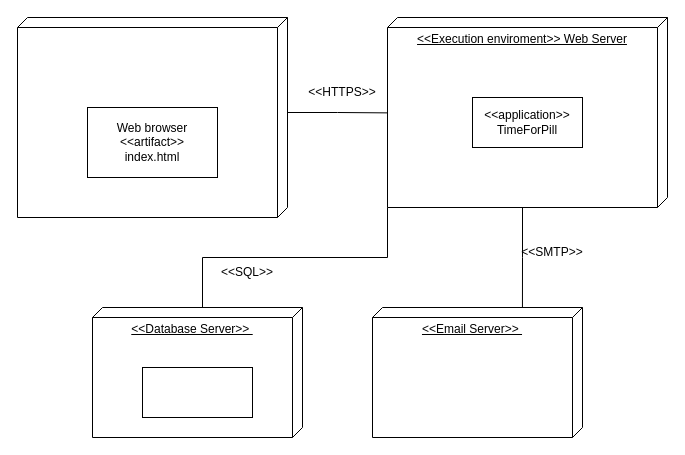
The diagram is 685 pixels wide and 455 high, and some of its shapes have lost their labels. The shapes that lost their labels are listed below. From the top down, each one's box as (x1, y1, x2, y2) in pixels, then its label:
(16, 16, 288, 218): <<Device>> Klijent
(142, 366, 252, 418): <<database>> MSSQL baza podataka
